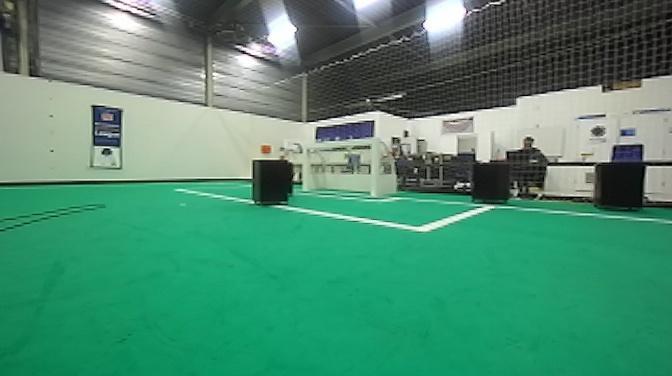goalpost: (295, 146, 314, 196), (366, 139, 378, 199)
